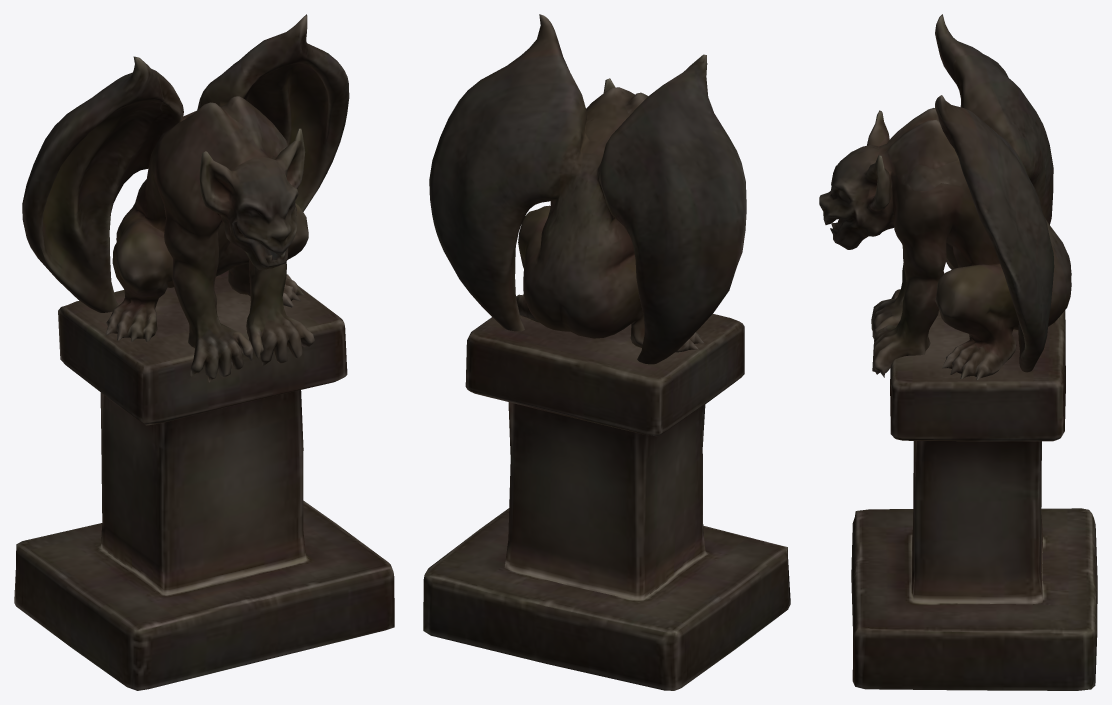
The model's file is gargoyle.glb.
The picture shows the model from 3 angles, left to right: view 1: azimuth 30°, elevation 25°; view 2: azimuth 150°, elevation 25°; view 3: azimuth 270°, elevation 25°; orthographic projection. The views are drawn at different scales.
Parts seen in each view (by area): view 1: SM_gargoyle_T_Gargoyle_0; view 2: SM_gargoyle_T_Gargoyle_0; view 3: SM_gargoyle_T_Gargoyle_0.
Part boxes in pixels (x1=…): SM_gargoyle_T_Gargoyle_0: x1=14, y1=14, x2=394, y2=690; SM_gargoyle_T_Gargoyle_0: x1=423, y1=14, x2=790, y2=690; SM_gargoyle_T_Gargoyle_0: x1=819, y1=14, x2=1097, y2=690.
Bounding box in the file's own units: 1.09 × 1.92 × 0.8439.
1 material, 1 textured.
